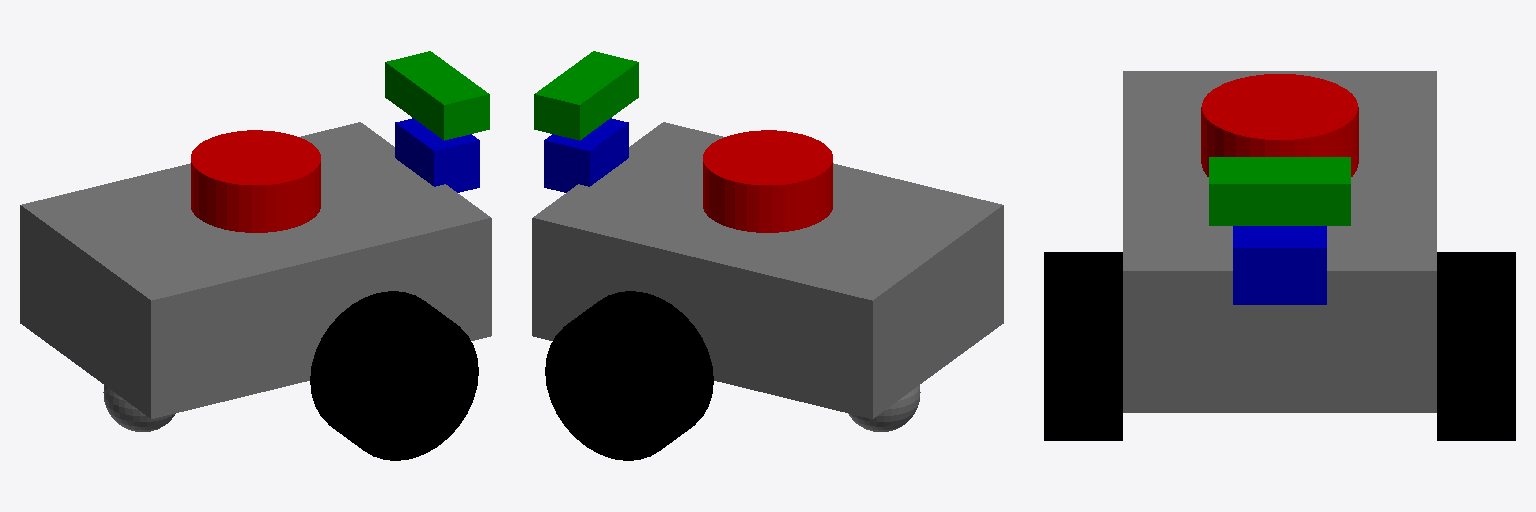
URDF robot description (sensor_robot_classic):
<?xml version="1.0"?>
<!--
  Gazebo Classic version of the sensor robot.
  Plugins publish directly to ROS 2 topics — no ros_gz_bridge needed.
-->
<robot name="sensor_robot_classic">

  <!-- ───── Links ───── -->

  <link name="base_link">
    <visual>
      <geometry><box size="0.3 0.2 0.1"/></geometry>
      <material name="gray"><color rgba="0.5 0.5 0.5 1"/></material>
    </visual>
    <collision>
      <geometry><box size="0.3 0.2 0.1"/></geometry>
    </collision>
    <inertial>
      <mass value="2.0"/>
      <inertia ixx="0.008333" ixy="0" ixz="0"
                               iyy="0.016667" iyz="0"
                                              izz="0.021667"/>
    </inertial>
  </link>

  <link name="left_wheel">
    <visual>
      <geometry><cylinder length="0.05" radius="0.06"/></geometry>
      <origin rpy="1.5708 0 0" xyz="0 0 0"/>
      <material name="black"><color rgba="0 0 0 1"/></material>
    </visual>
    <collision>
      <geometry><cylinder length="0.05" radius="0.06"/></geometry>
      <origin rpy="1.5708 0 0" xyz="0 0 0"/>
    </collision>
    <inertial>
      <mass value="0.5"/>
      <inertia ixx="0.000554" ixy="0" ixz="0"
                               iyy="0.000900" iyz="0"
                                              izz="0.000554"/>
    </inertial>
  </link>

  <link name="right_wheel">
    <visual>
      <geometry><cylinder length="0.05" radius="0.06"/></geometry>
      <origin rpy="1.5708 0 0" xyz="0 0 0"/>
      <material name="black"><color rgba="0 0 0 1"/></material>
    </visual>
    <collision>
      <geometry><cylinder length="0.05" radius="0.06"/></geometry>
      <origin rpy="1.5708 0 0" xyz="0 0 0"/>
    </collision>
    <inertial>
      <mass value="0.5"/>
      <inertia ixx="0.000554" ixy="0" ixz="0"
                               iyy="0.000900" iyz="0"
                                              izz="0.000554"/>
    </inertial>
  </link>

  <link name="caster_wheel">
    <visual>
      <geometry><sphere radius="0.03"/></geometry>
      <material name="gray"><color rgba="0.5 0.5 0.5 1"/></material>
    </visual>
    <collision>
      <geometry><sphere radius="0.03"/></geometry>
    </collision>
    <inertial>
      <mass value="0.1"/>
      <inertia ixx="0.000036" ixy="0" ixz="0"
                               iyy="0.000036" iyz="0"
                                              izz="0.000036"/>
    </inertial>
  </link>

  <!-- LiDAR mount -->
  <link name="laser_frame">
    <visual>
      <geometry><cylinder length="0.04" radius="0.05"/></geometry>
      <material name="red"><color rgba="0.8 0 0 1"/></material>
    </visual>
    <collision>
      <geometry><cylinder length="0.04" radius="0.05"/></geometry>
    </collision>
    <inertial>
      <mass value="0.1"/>
      <inertia ixx="0.000076" ixy="0" ixz="0"
                               iyy="0.000076" iyz="0"
                                              izz="0.000125"/>
    </inertial>
  </link>

  <!-- Depth camera mount -->
  <link name="depth_frame">
    <visual>
      <geometry><box size="0.04 0.09 0.03"/></geometry>
      <material name="green"><color rgba="0 0.6 0 1"/></material>
    </visual>
    <collision>
      <geometry><box size="0.04 0.09 0.03"/></geometry>
    </collision>
    <inertial>
      <mass value="0.05"/>
      <inertia ixx="0.000010" ixy="0" ixz="0"
                               iyy="0.000010" iyz="0"
                                              izz="0.000010"/>
    </inertial>
  </link>

  <!-- RGB camera mount -->
  <link name="camera_frame">
    <visual>
      <geometry><box size="0.04 0.06 0.04"/></geometry>
      <material name="blue"><color rgba="0 0 0.8 1"/></material>
    </visual>
    <collision>
      <geometry><box size="0.04 0.06 0.04"/></geometry>
    </collision>
    <inertial>
      <mass value="0.05"/>
      <inertia ixx="0.000010" ixy="0" ixz="0"
                               iyy="0.000010" iyz="0"
                                              izz="0.000010"/>
    </inertial>
  </link>

  <!-- ───── Joints ───── -->

  <joint name="left_wheel_joint" type="continuous">
    <parent link="base_link"/>
    <child  link="left_wheel"/>
    <origin xyz="0.05 0.125 -0.05" rpy="0 0 0"/>
    <axis   xyz="0 1 0"/>
    <limit  effort="10" velocity="10"/>
    <dynamics damping="0.1" friction="0.0"/>
  </joint>

  <joint name="right_wheel_joint" type="continuous">
    <parent link="base_link"/>
    <child  link="right_wheel"/>
    <origin xyz="0.05 -0.125 -0.05" rpy="0 0 0"/>
    <axis   xyz="0 1 0"/>
    <limit  effort="10" velocity="10"/>
    <dynamics damping="0.1" friction="0.0"/>
  </joint>

  <joint name="caster_wheel_joint" type="fixed">
    <parent link="base_link"/>
    <child  link="caster_wheel"/>
    <origin xyz="-0.1 0 -0.08" rpy="0 0 0"/>
  </joint>

  <joint name="laser_joint" type="fixed">
    <parent link="base_link"/>
    <child  link="laser_frame"/>
    <origin xyz="0.0 0 0.075" rpy="0 0 0"/>
  </joint>

  <joint name="camera_joint" type="fixed">
    <parent link="base_link"/>
    <child  link="camera_frame"/>
    <origin xyz="0.16 0 0.06" rpy="0 0 0"/>
  </joint>

  <joint name="depth_joint" type="fixed">
    <parent link="base_link"/>
    <child  link="depth_frame"/>
    <origin xyz="0.16 0 0.11" rpy="0 0 0"/>
  </joint>

  <!-- ───── Gazebo Classic material colours ───── -->

  <gazebo reference="base_link">
    <material>Gazebo/Gray</material>
  </gazebo>
  <gazebo reference="left_wheel">
    <material>Gazebo/Black</material>
  </gazebo>
  <gazebo reference="right_wheel">
    <material>Gazebo/Black</material>
  </gazebo>
  <gazebo reference="caster_wheel">
    <material>Gazebo/Gray</material>
    <mu1>0</mu1>
    <mu2>0</mu2>
  </gazebo>
  <gazebo reference="laser_frame">
    <material>Gazebo/Red</material>
  </gazebo>
  <gazebo reference="camera_frame">
    <material>Gazebo/Blue</material>
  </gazebo>
  <gazebo reference="depth_frame">
    <material>Gazebo/Green</material>
  </gazebo>

  <!-- High friction on drive wheels -->
  <gazebo reference="left_wheel">
    <mu1>1.0</mu1>
    <mu2>1.0</mu2>
  </gazebo>
  <gazebo reference="right_wheel">
    <mu1>1.0</mu1>
    <mu2>1.0</mu2>
  </gazebo>

  <!-- ───── Diff drive plugin (Gazebo Classic) ───── -->

  <gazebo>
    <plugin name="gazebo_ros_diff_drive" filename="libgazebo_ros_diff_drive.so">
      <left_joint>left_wheel_joint</left_joint>
      <right_joint>right_wheel_joint</right_joint>
      <wheel_separation>0.25</wheel_separation>
      <wheel_diameter>0.12</wheel_diameter>
      <max_wheel_torque>20</max_wheel_torque>
      <max_wheel_acceleration>1.0</max_wheel_acceleration>
      <publish_odom>true</publish_odom>
      <publish_odom_tf>true</publish_odom_tf>
      <publish_wheel_tf>false</publish_wheel_tf>
      <odometry_frame>odom</odometry_frame>
      <robot_base_frame>base_link</robot_base_frame>
    </plugin>
  </gazebo>

  <!-- ───── Joint state publisher (Gazebo Classic) ───── -->
  <!-- Required so robot_state_publisher can compute wheel transforms for RViz -->

  <gazebo>
    <plugin name="gazebo_ros_joint_state_publisher"
            filename="libgazebo_ros_joint_state_publisher.so">
      <update_rate>10</update_rate>
      <joint_name>left_wheel_joint</joint_name>
      <joint_name>right_wheel_joint</joint_name>
    </plugin>
  </gazebo>

  <!-- ───── LiDAR sensor (Gazebo Classic) ───── -->

  <gazebo reference="laser_frame">
    <sensor type="ray" name="laser">
      <pose>0 0 0 0 0 0</pose>
      <visualize>true</visualize>
      <update_rate>10</update_rate>
      <ray>
        <scan>
          <horizontal>
            <samples>360</samples>
            <resolution>1</resolution>
            <min_angle>-3.14159</min_angle>
            <max_angle>3.14159</max_angle>
          </horizontal>
        </scan>
        <range>
          <min>0.5</min>
          <max>10.0</max>
          <resolution>0.01</resolution>
        </range>
        <noise>
          <type>gaussian</type>
          <mean>0.0</mean>
          <stddev>0.01</stddev>
        </noise>
      </ray>
      <plugin name="gazebo_ros_laser" filename="libgazebo_ros_ray_sensor.so">
        <ros>
          <remapping>~/out:=scan</remapping>
        </ros>
        <output_type>sensor_msgs/LaserScan</output_type>
        <frame_name>laser_frame</frame_name>
      </plugin>
    </sensor>
  </gazebo>

  <!-- ───── 3D LiDAR sensor — VLP-16 equivalent (Gazebo Classic) ───── -->

  <!-- <gazebo reference="laser_frame">
    <sensor type="ray" name="lidar_3d">
      <pose>0 0 0 0 0 0</pose>
      <visualize>false</visualize>
      <update_rate>10</update_rate>
      <ray>
        <scan>
          <horizontal>
            <samples>1800</samples>
            <resolution>1</resolution>
            <min_angle>-3.14159</min_angle>
            <max_angle>3.14159</max_angle>
          </horizontal>
          <vertical>
            <samples>16</samples>
            <resolution>1</resolution>
            <min_angle>-0.26180</min_angle>
            <max_angle>0.26180</max_angle>
          </vertical>
        </scan>
        <range>
          <min>0.5</min>
          <max>100.0</max>
          <resolution>0.03</resolution>
        </range>
        <noise>
          <type>gaussian</type>
          <mean>0.0</mean>
          <stddev>0.008</stddev>
        </noise>
      </ray>
      <plugin name="gazebo_ros_3d_lidar" filename="libgazebo_ros_ray_sensor.so">
        <ros>
          <remapping>~/out:=points</remapping>
        </ros>
        <output_type>sensor_msgs/PointCloud2</output_type>
        <frame_name>laser_frame</frame_name>
      </plugin>
    </sensor>
  </gazebo> -->

  <!-- ───── RGB camera sensor (Gazebo Classic) ───── -->

  <gazebo reference="camera_frame">
    <sensor type="camera" name="rgb_camera">
      <update_rate>30.0</update_rate>
      <visualize>true</visualize>
      <camera name="rgb">
        <horizontal_fov>1.0472</horizontal_fov>
        <image>
          <width>640</width>
          <height>480</height>
          <format>R8G8B8</format>
        </image>
        <clip>
          <near>0.1</near>
          <far>100</far>
        </clip>
        <noise>
          <type>gaussian</type>
          <mean>0.0</mean>
          <stddev>0.007</stddev>
        </noise>
      </camera>
      <plugin name="gazebo_ros_camera" filename="libgazebo_ros_camera.so">
        <ros>
          <remapping>image_raw:=camera/image_raw</remapping>
          <remapping>camera_info:=camera/camera_info</remapping>
        </ros>
        <camera_name>camera</camera_name>
        <frame_name>camera_frame</frame_name>
      </plugin>
    </sensor>
  </gazebo>

  <!-- ───── Depth camera (Gazebo Classic) ───── -->
  <!--
    NOT SUPPORTED: libgazebo_ros_openni_kinect.so and libgazebo_ros_depth_camera.so
    were never ported to ROS 2. Gazebo Classic has no depth camera plugin in ROS 2 Humble.
  -->

</robot>

--- What the picture shows (computed from the rendered views, not written in the file) ---
3 views of the same robot in one strip: view 1: azimuth 30°, elevation 25°; view 2: azimuth 150°, elevation 25°; view 3: azimuth 270°, elevation 25° (orthographic).
Model sensor_robot_classic with 7 links and 6 joints (2 continuous, 4 fixed), rooted at base_link, posed all joints at 0.
Visible links, largest first — view 1: base_link, right_wheel, laser_frame, depth_frame, camera_frame, caster_wheel; view 2: base_link, left_wheel, laser_frame, depth_frame, camera_frame, caster_wheel; view 3: base_link, left_wheel, right_wheel, laser_frame, depth_frame, camera_frame.
Boxes of the visible links, x1=… form: base_link: x1=20, y1=122, x2=491, y2=418; right_wheel: x1=310, y1=291, x2=478, y2=460; laser_frame: x1=191, y1=130, x2=320, y2=232; depth_frame: x1=385, y1=51, x2=489, y2=140; camera_frame: x1=395, y1=118, x2=479, y2=192; caster_wheel: x1=103, y1=385, x2=175, y2=431; base_link: x1=532, y1=122, x2=1003, y2=418; left_wheel: x1=545, y1=291, x2=713, y2=460; laser_frame: x1=703, y1=130, x2=832, y2=232; depth_frame: x1=534, y1=51, x2=638, y2=140; camera_frame: x1=544, y1=118, x2=628, y2=192; caster_wheel: x1=848, y1=385, x2=920, y2=431; base_link: x1=1123, y1=71, x2=1436, y2=412; left_wheel: x1=1437, y1=252, x2=1515, y2=440; right_wheel: x1=1044, y1=252, x2=1122, y2=440; laser_frame: x1=1201, y1=74, x2=1358, y2=176; depth_frame: x1=1209, y1=157, x2=1350, y2=225; camera_frame: x1=1233, y1=226, x2=1326, y2=304.
Bounding box of the posed robot: 0.33 × 0.3 × 0.235 m (x, y, z).
Geometry: primitives only (box / cylinder / sphere), no mesh files.
